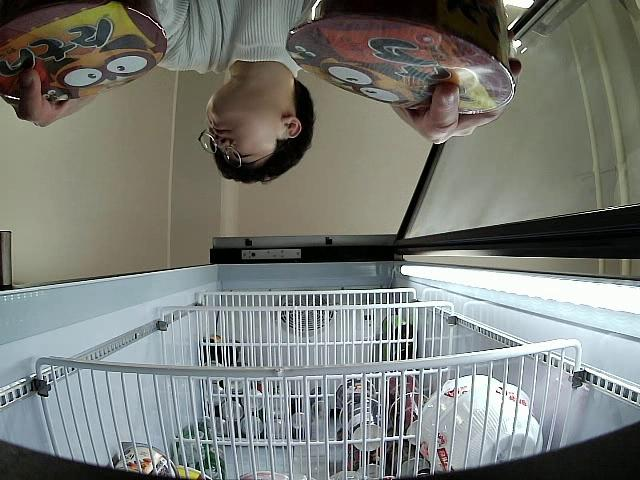00_hand: (390, 57, 521, 145), (0, 68, 98, 129)
05_nuguri_L: (285, 0, 515, 113), (0, 0, 167, 101)
